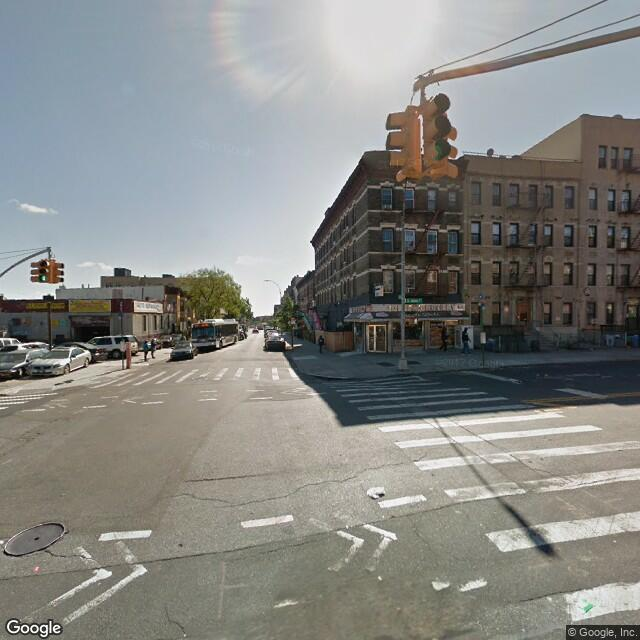litter: (364, 484, 386, 500), (534, 373, 550, 376)
